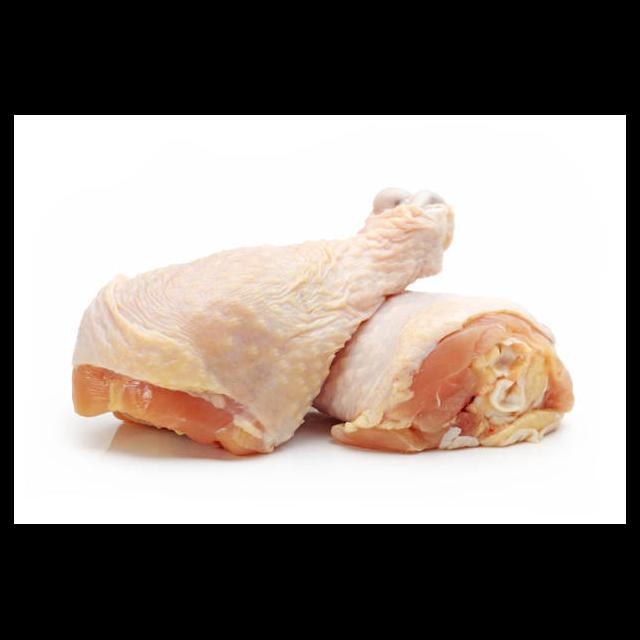chicken: (69, 186, 454, 456), (312, 288, 574, 451)
